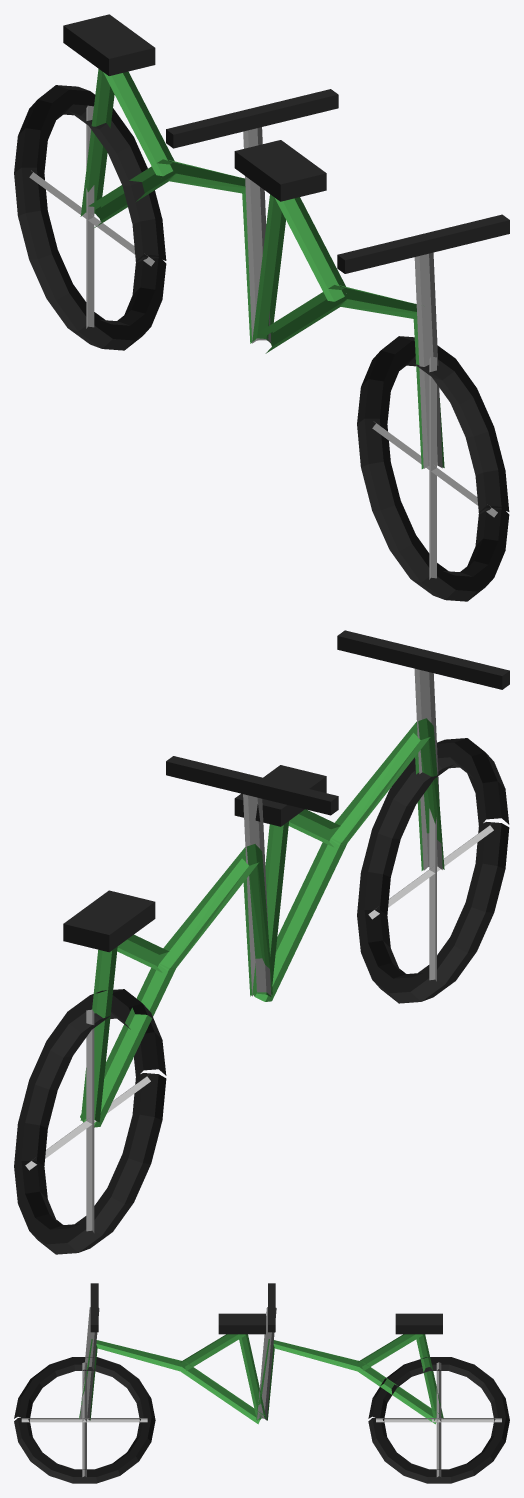
The model's file is tandem.glb.
3 views of the same model, one above another, from view 1: azimuth 30°, elevation 25°; view 2: azimuth 150°, elevation 25°; view 3: azimuth 270°, elevation 25° (orthographic). The views are drawn at different scales.
Visible parts, largest first — view 1: tandem; view 2: tandem; view 3: tandem.
Part boxes in pixels (x1,y1,x2,y2): tandem: [14, 14, 509, 601]; tandem: [14, 630, 509, 1254]; tandem: [14, 1283, 509, 1483].
Bounding box in the file's own units: 0.5001 × 1 × 2.52.
